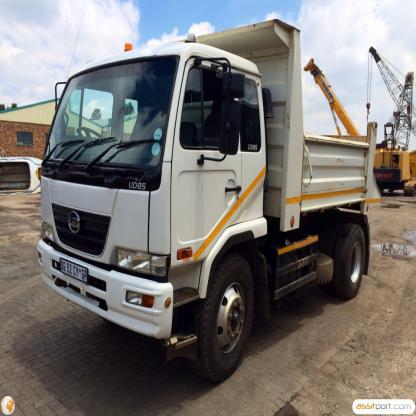dump_truck: (35, 12, 385, 386)
